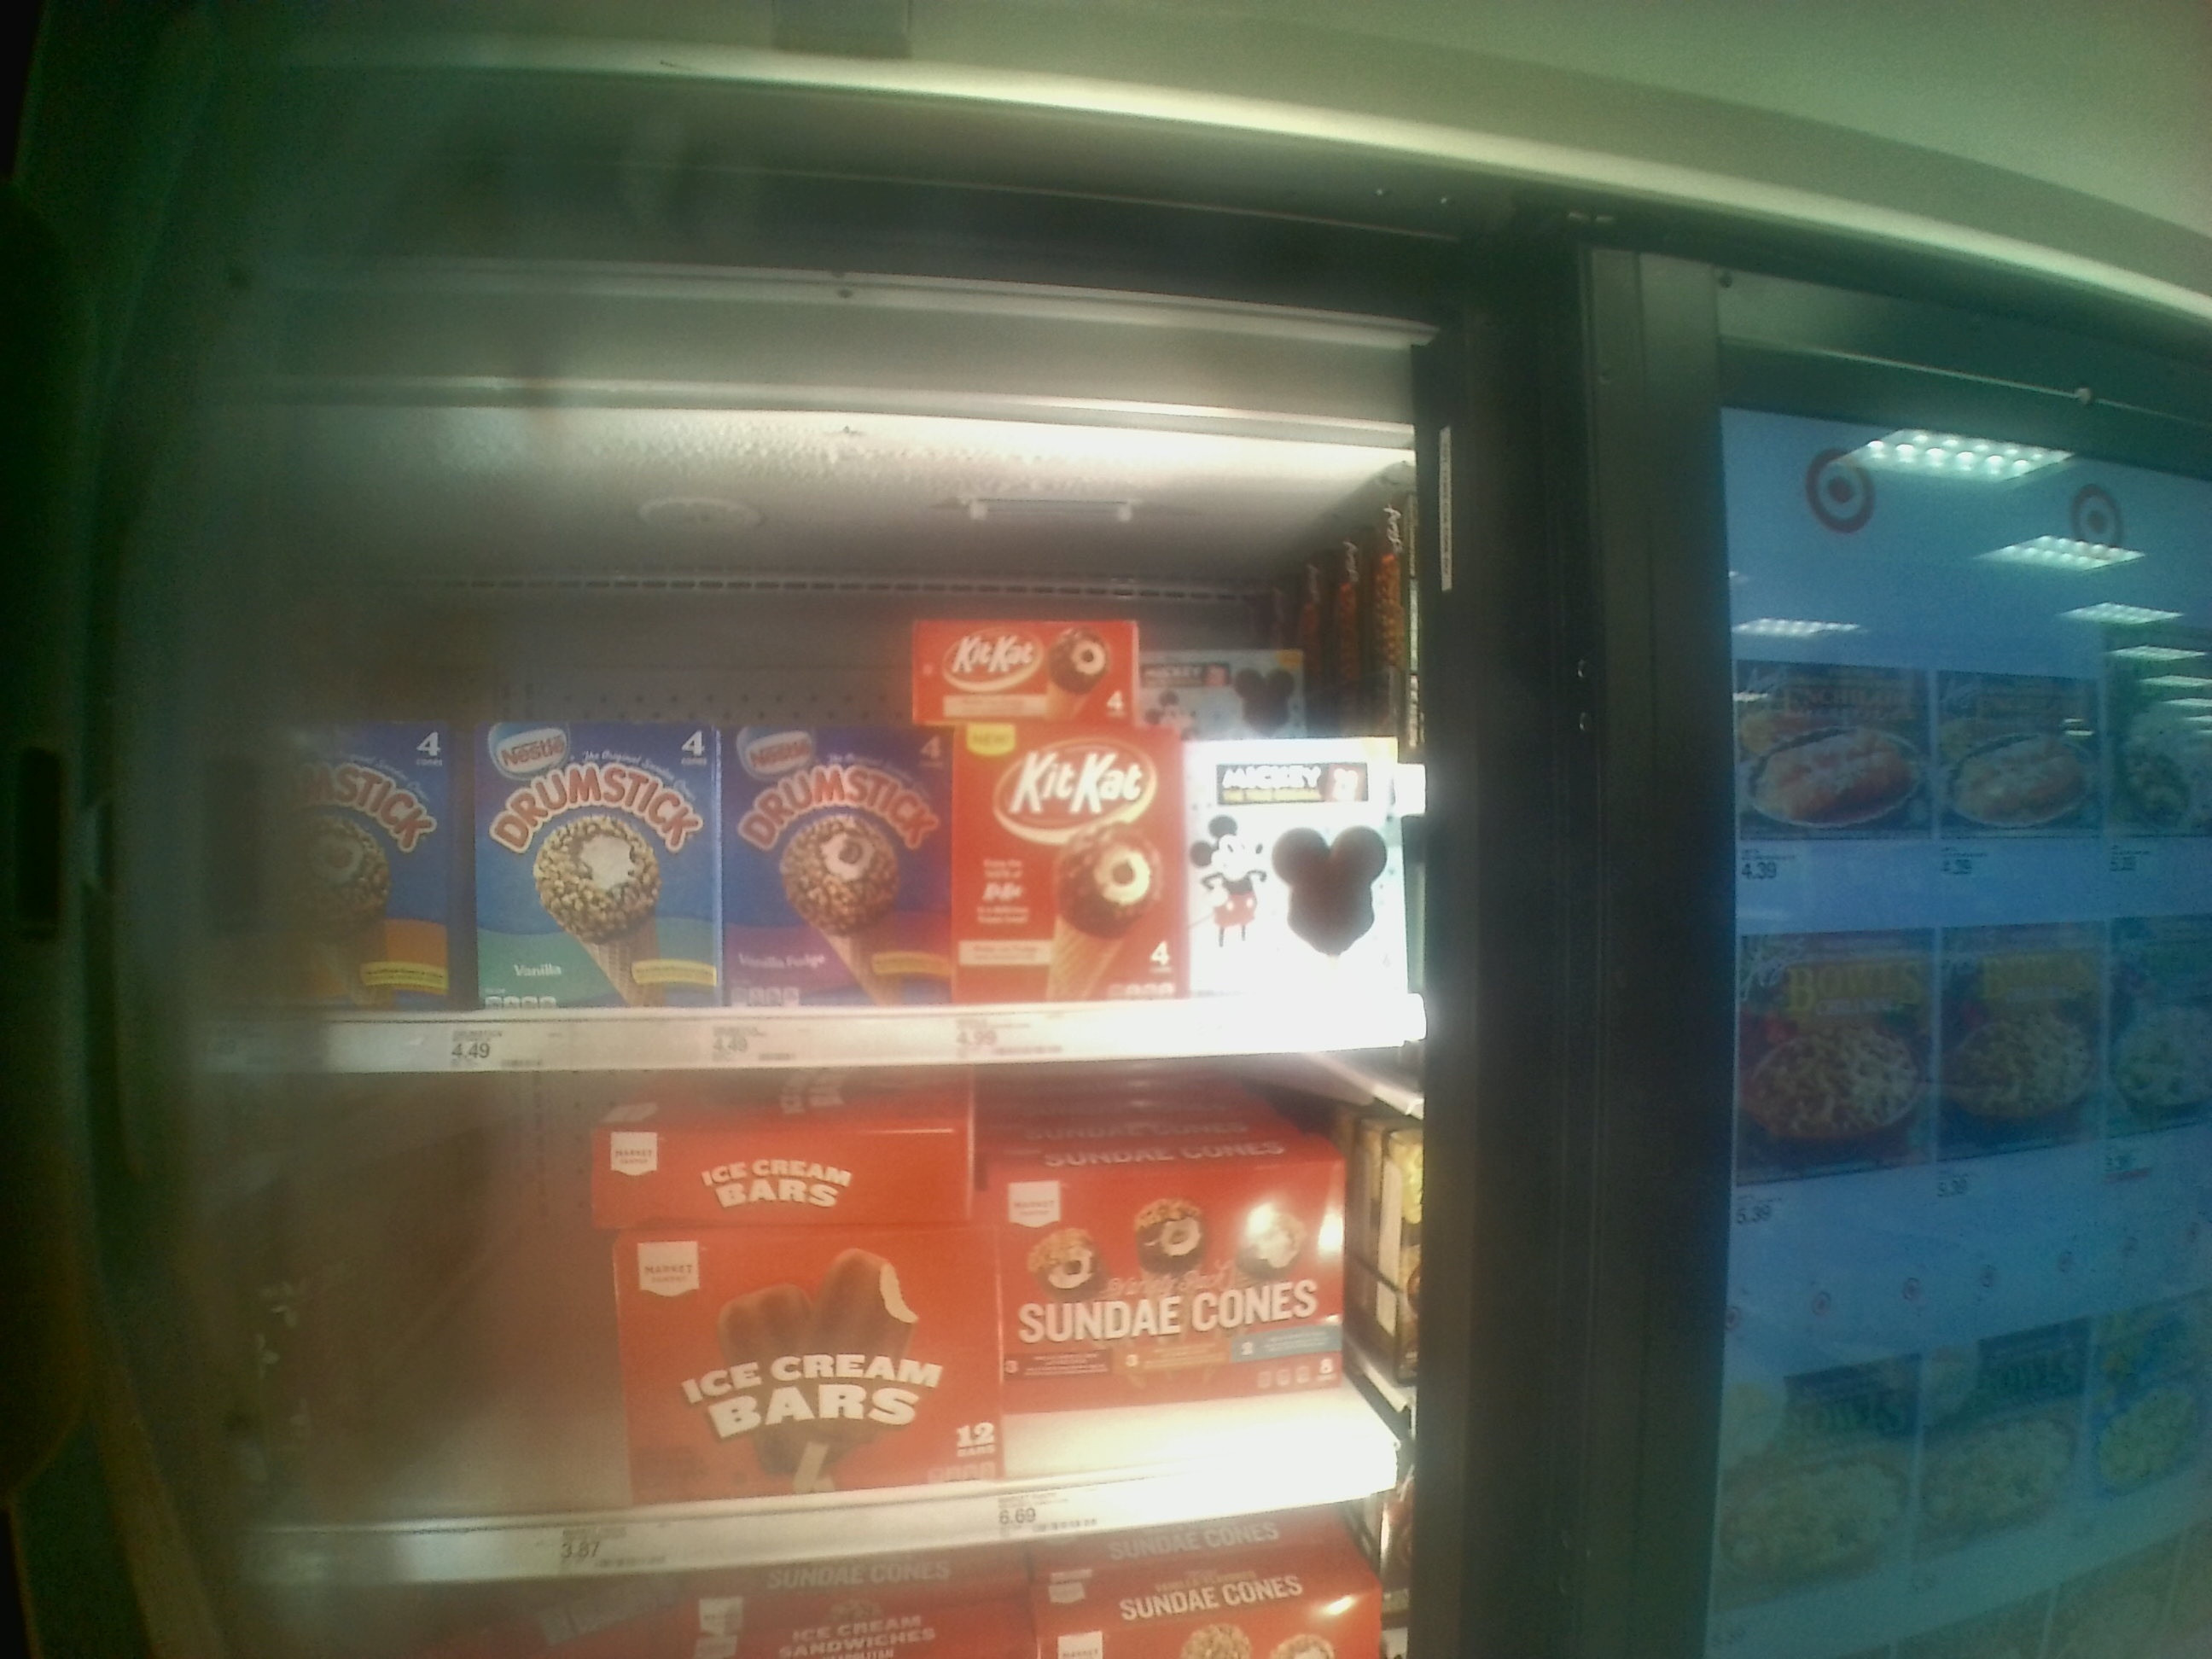shelf: (165, 279, 1439, 1080), (164, 1082, 1420, 1589)
